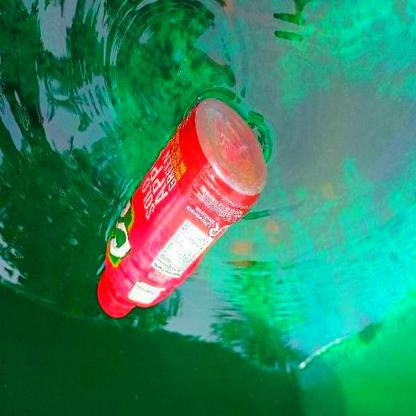plastic bottle: (95, 99, 268, 319)
